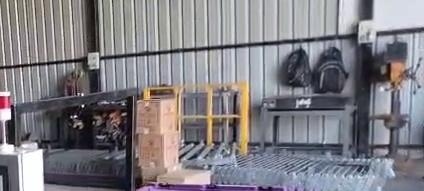box: (138, 185, 284, 190)
